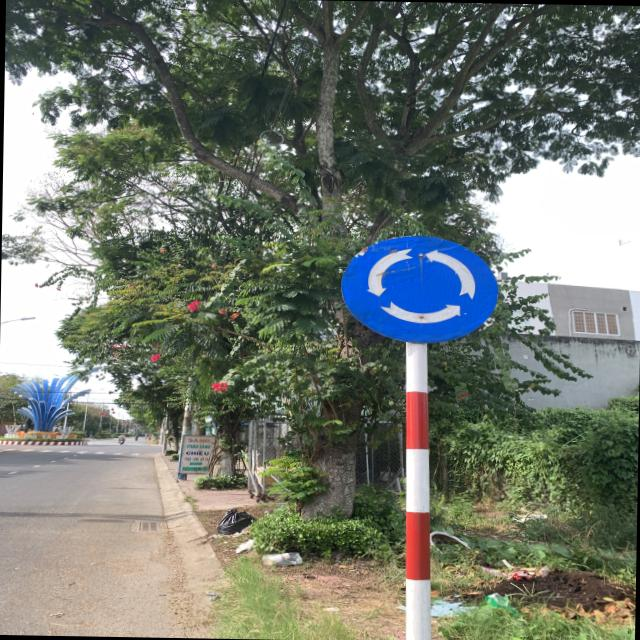Xe_Bus: (339, 234, 501, 346)
